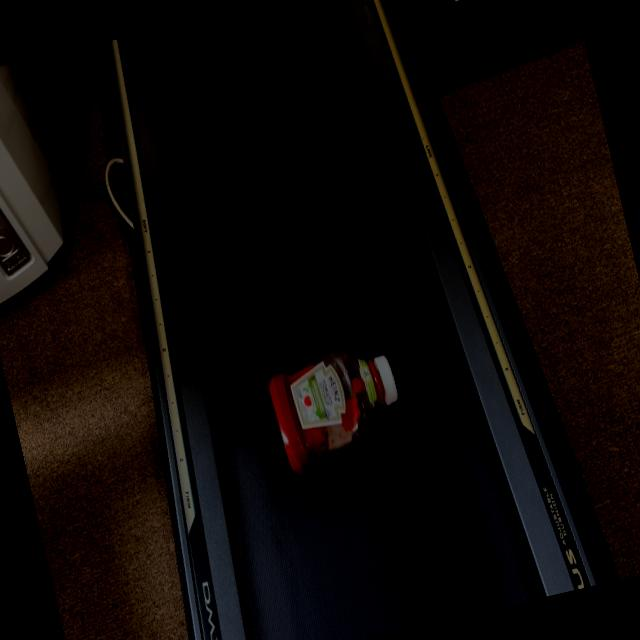Trash: (260, 335, 411, 474)
